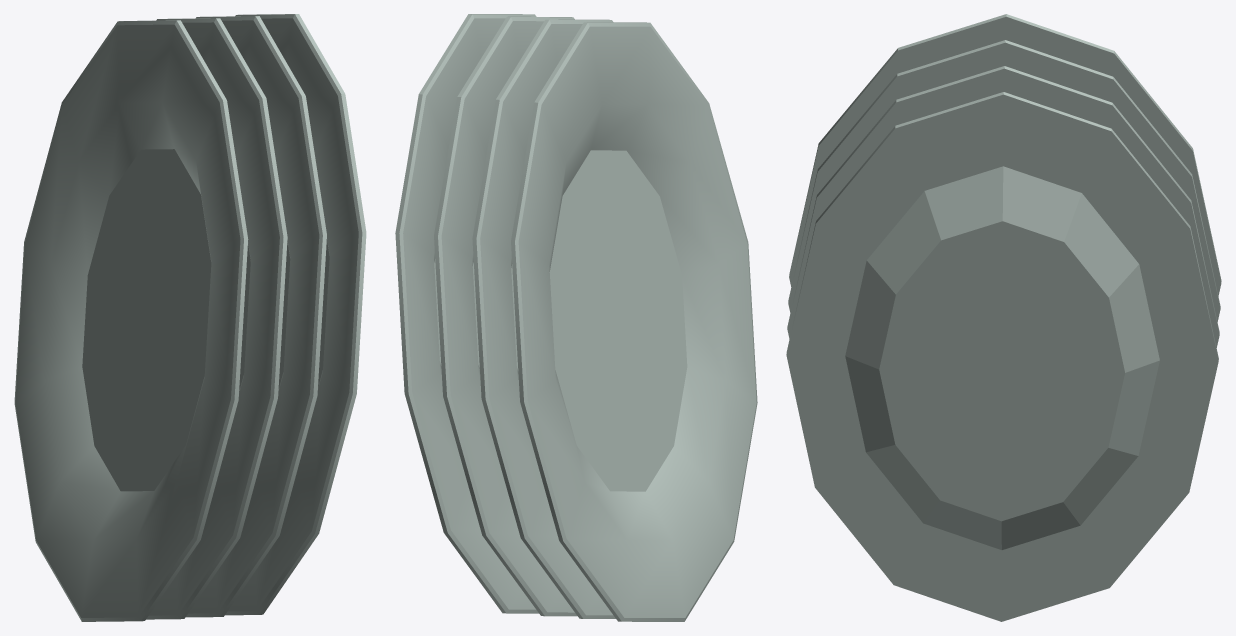
Rendered from SilverwareShelfFiller_Plates.fbx.
3 views of the same model, side by side, from view 1: azimuth 30°, elevation 25°; view 2: azimuth 150°, elevation 25°; view 3: azimuth 270°, elevation 25° (orthographic).
Parts seen in each view (by area): view 1: SilverwareShelfFiller_(3)-detach; view 2: SilverwareShelfFiller_(3)-detach; view 3: SilverwareShelfFiller_(3)-detach.
Part boxes in pixels (x1,y1,x2,y2): SilverwareShelfFiller_(3)-detach: (14, 14, 366, 621); SilverwareShelfFiller_(3)-detach: (395, 14, 757, 621); SilverwareShelfFiller_(3)-detach: (786, 14, 1221, 621).
Size of the model in its own units: 1.18 by 3.1 by 2.05.
